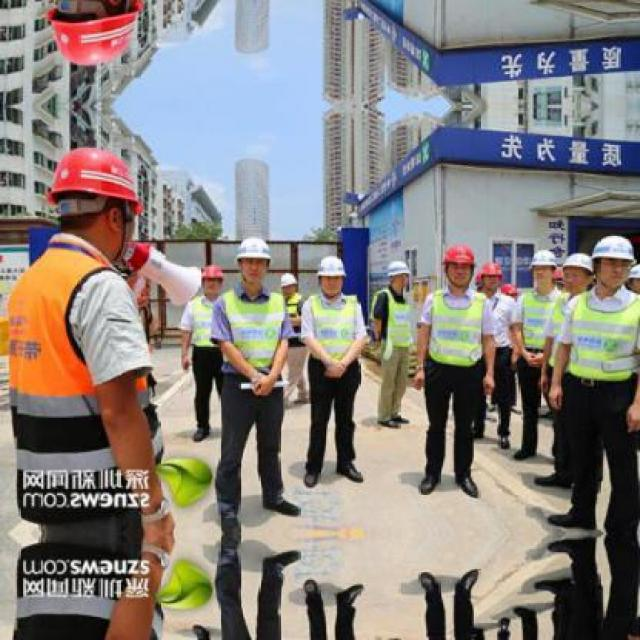Reflective-Jacket: (2, 250, 128, 427), (564, 291, 640, 385), (220, 288, 288, 378), (428, 290, 488, 367), (306, 293, 363, 372), (372, 286, 417, 354), (520, 290, 557, 352), (188, 296, 222, 349)
Safety-Helmet: (39, 139, 146, 213), (31, 3, 146, 67), (590, 235, 636, 262), (234, 235, 272, 262), (197, 260, 229, 286), (315, 255, 348, 279), (443, 242, 475, 264), (562, 250, 592, 271), (530, 248, 558, 268), (275, 273, 304, 291), (386, 258, 412, 278)
